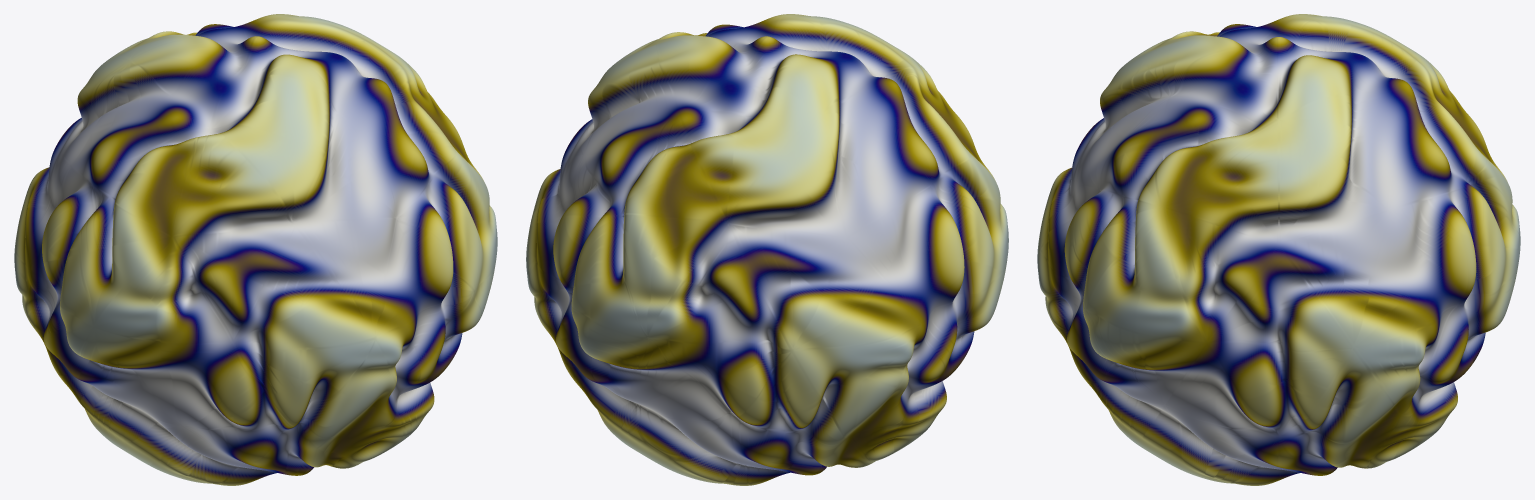
Rendered from blob.glb.
3 views of the same model, side by side, from view 1: azimuth 30°, elevation 25°; view 2: azimuth 150°, elevation 25°; view 3: azimuth 270°, elevation 25° (orthographic).
Visible parts, largest first — view 1: Geode; view 2: Geode; view 3: Geode.
Boxes of the visible parts, x1,y1,x2,y2 form: Geode: (14,14,497,485); Geode: (526,14,1008,485); Geode: (1037,14,1520,485).
Bounding box in the file's own units: 4.56 × 4.5 × 4.64.
